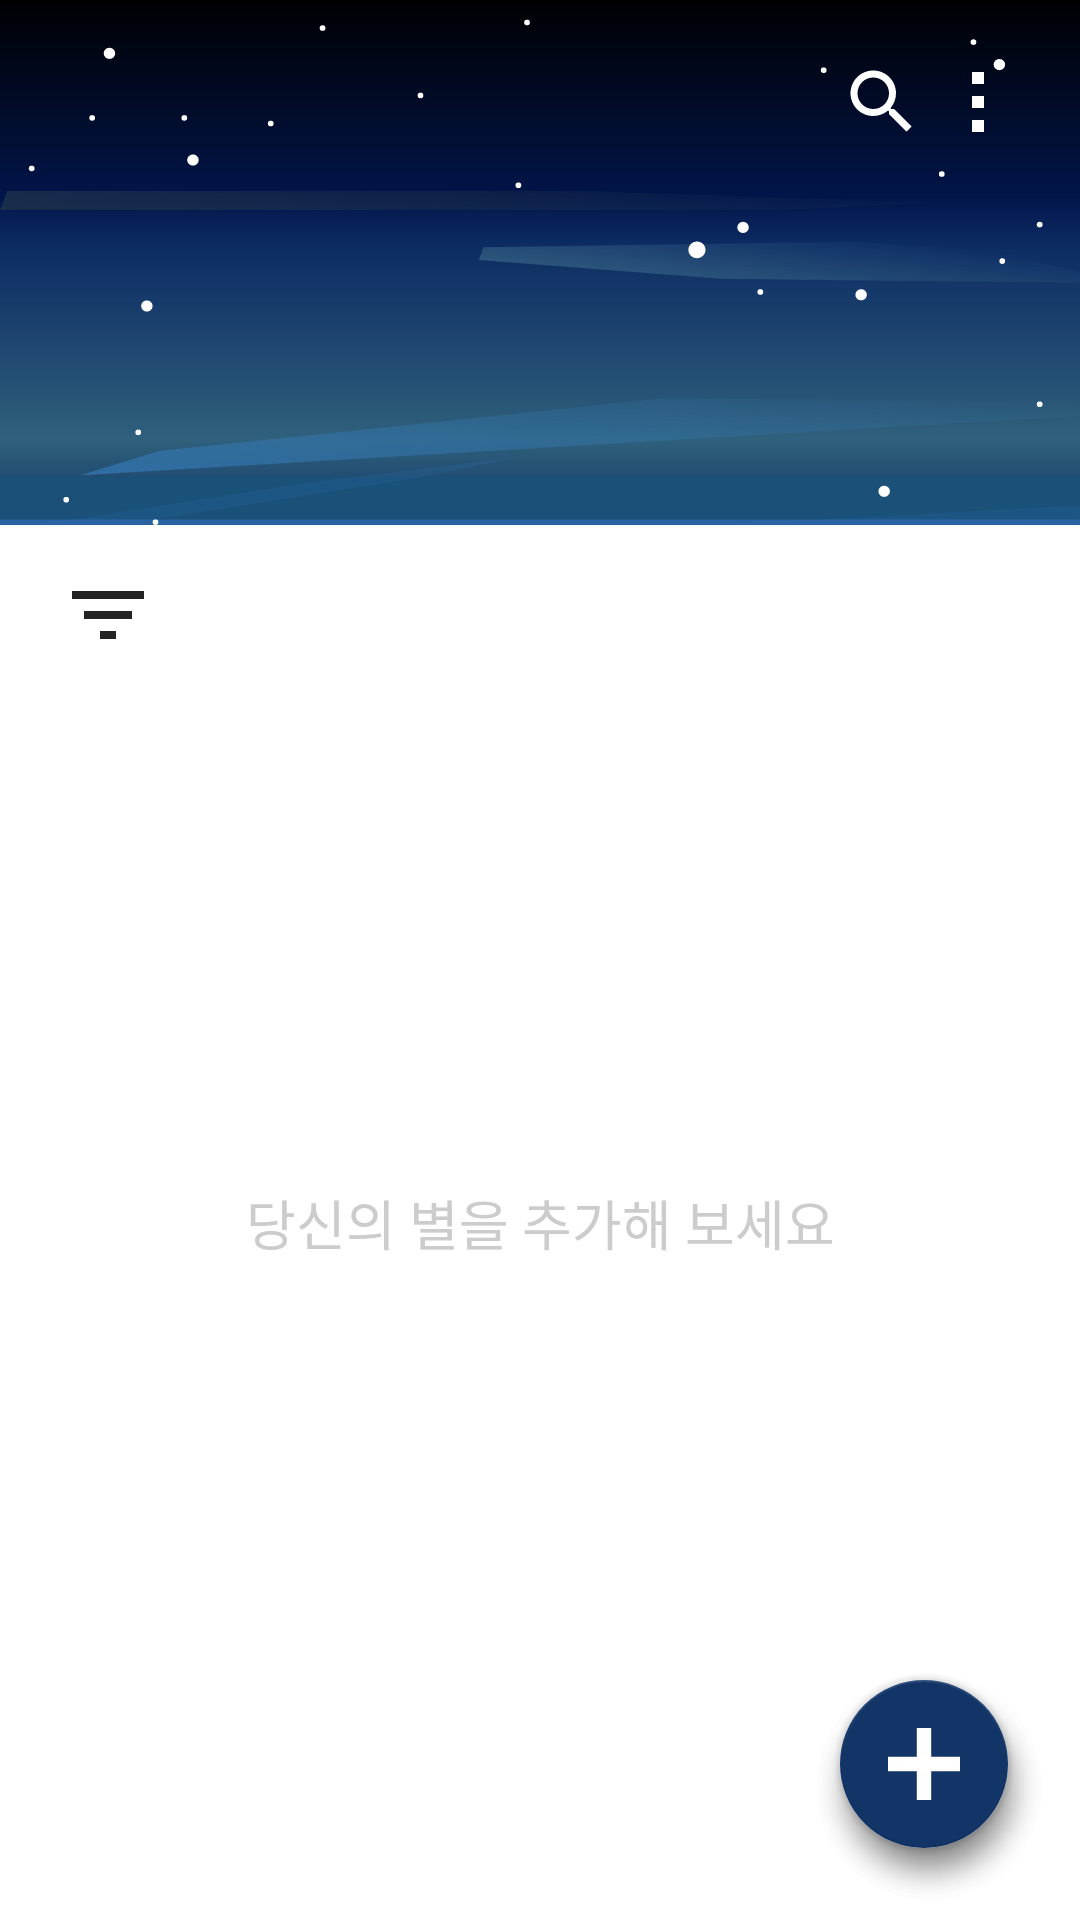

Icon click points for this 1080px x 1920px phone screenshot, format point (x, y):
menubar: point (978, 102)
search: point (882, 102)
sort: point (108, 615)
